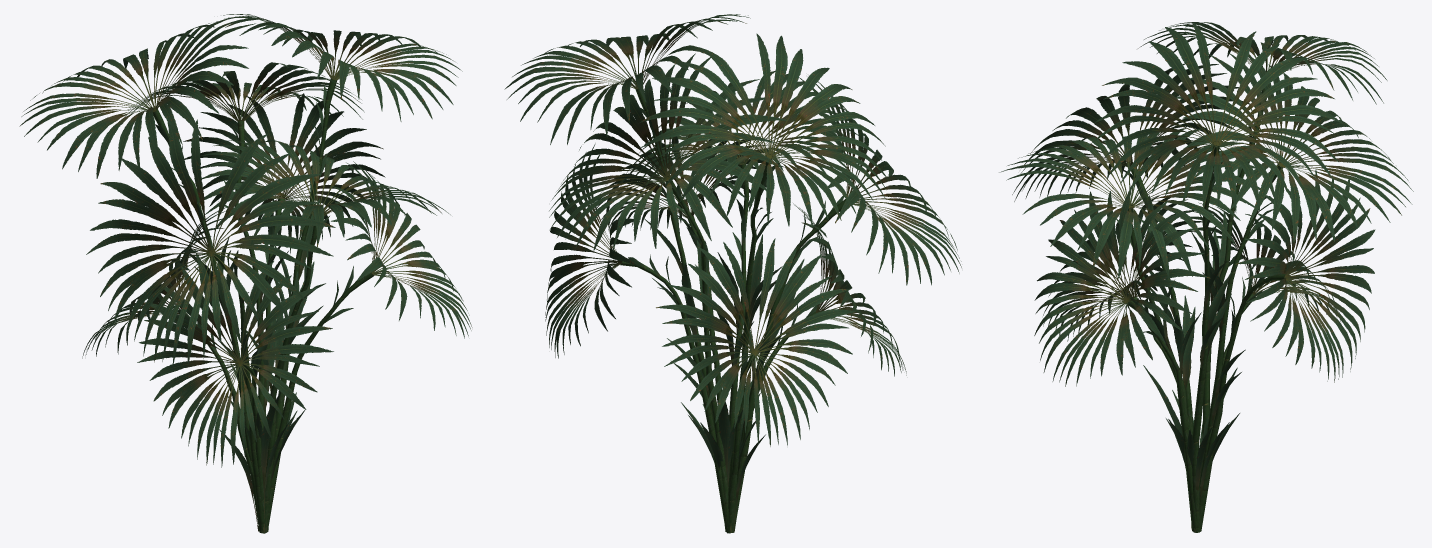
File: Plant1_1.fbx
The picture shows the model from 3 angles, left to right: view 1: azimuth 30°, elevation 25°; view 2: azimuth 150°, elevation 25°; view 3: azimuth 270°, elevation 25°; orthographic projection.
Parts seen in each view (by area): view 1: polySurface10; view 2: polySurface10; view 3: polySurface10.
Boxes of the visible parts, x1,y1,x2,y2 form: polySurface10: (19, 14, 472, 533); polySurface10: (504, 14, 961, 533); polySurface10: (999, 22, 1413, 532).
Size of the model in its own units: 468 by 583 by 439.
